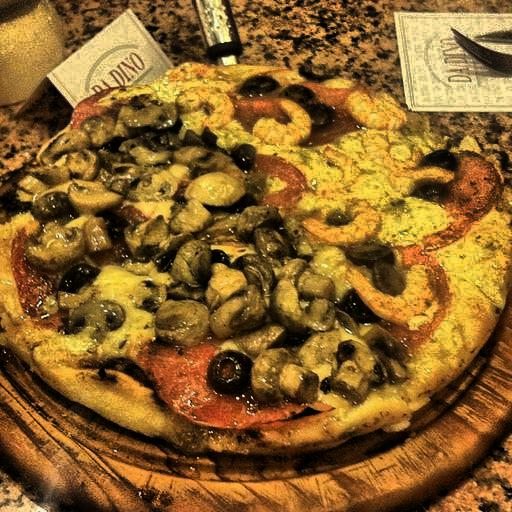pizza: (15, 68, 512, 458)
